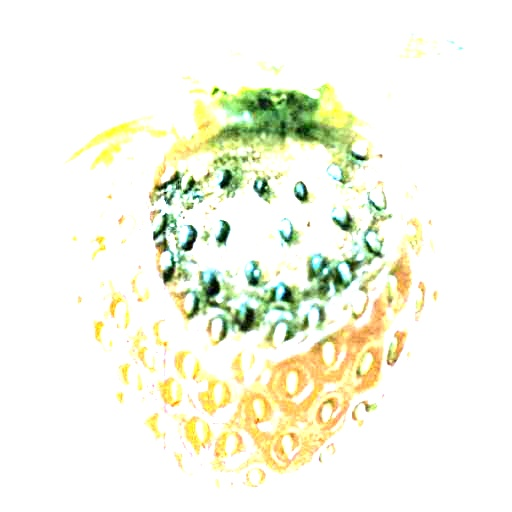Anthracnose Fruit Rot: (106, 107, 431, 383)
